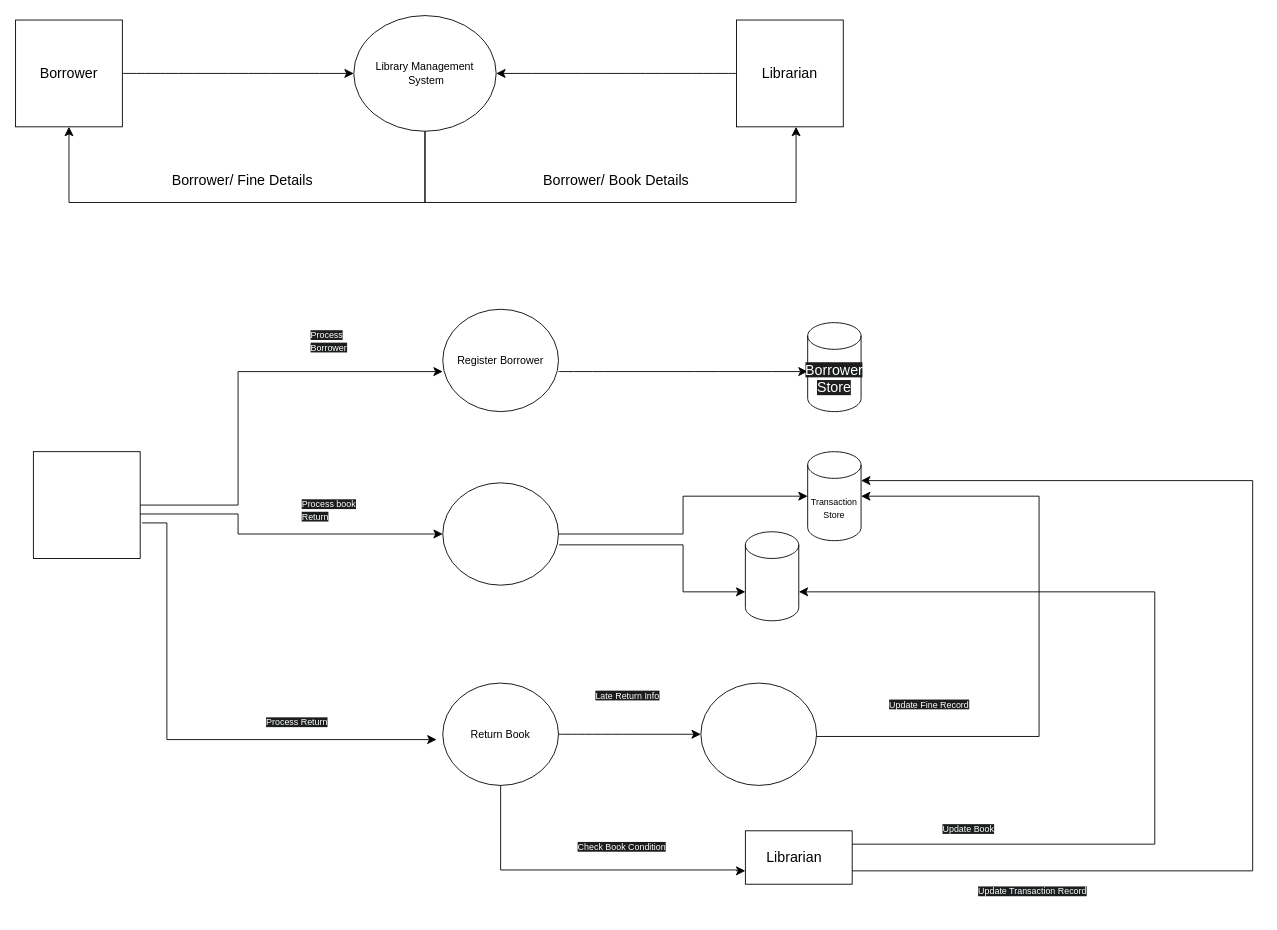
This 1277x930 diagram has some shape labels left out. The shapes that lost their labels are listed below. From the top down, each one's centre as x and y in pixels, then its label:
(86,504): Borrow Books
(500,533): Borrow Book
(771,576): Book store
(758,733): Calculate Fine
